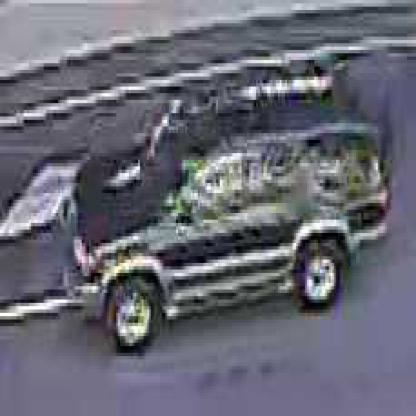car: (59, 58, 388, 347)
